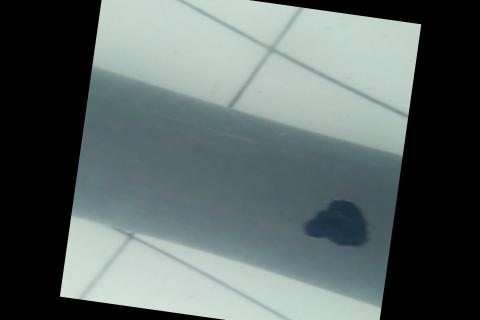kebocoran: (299, 191, 374, 250)
